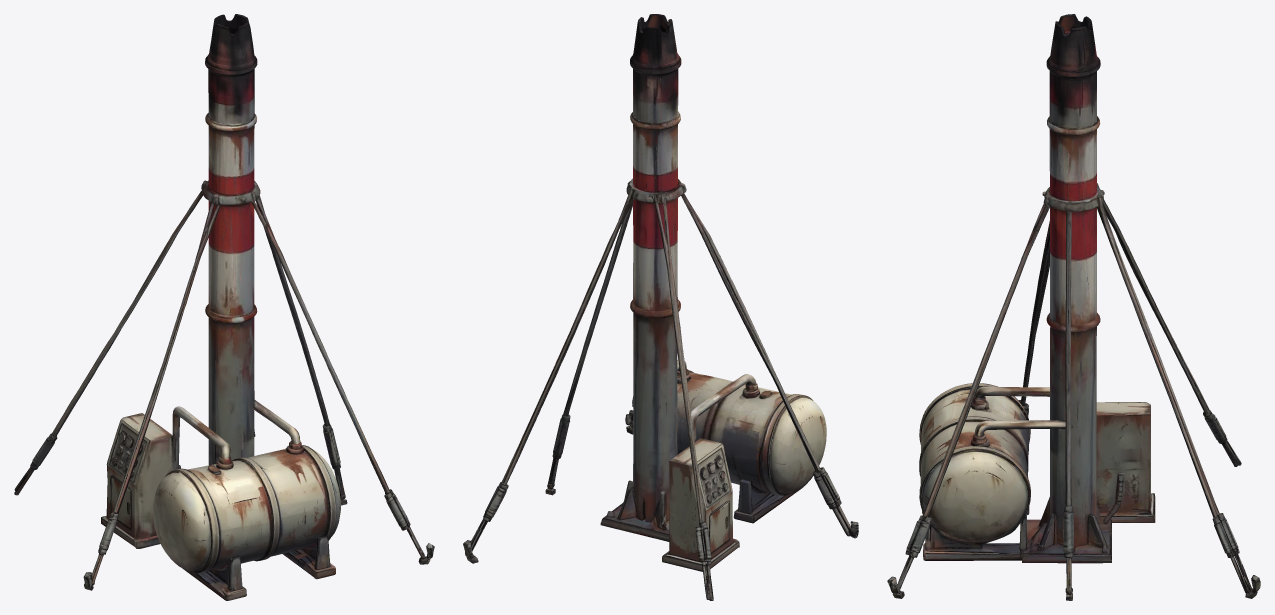
The model's file is flare.glb.
The picture shows the model from 3 angles, left to right: view 1: azimuth 30°, elevation 25°; view 2: azimuth 150°, elevation 25°; view 3: azimuth 270°, elevation 25°; orthographic projection. The views are drawn at different scales.
Size of the model in its own units: 1.14 by 1.9 by 1.23.
Materials: 1 (1 with a texture image).
